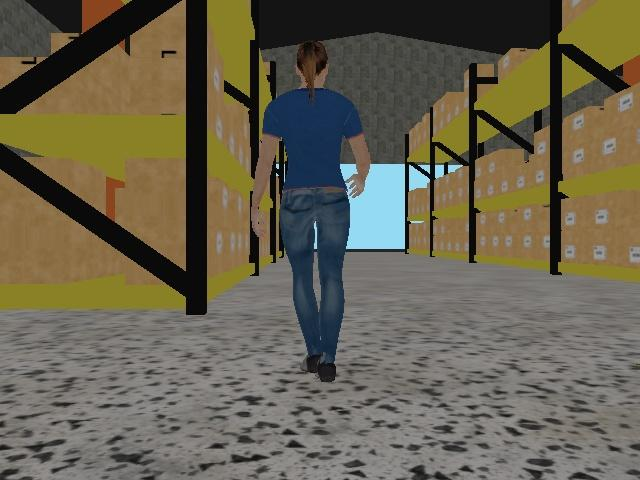person: (247, 39, 372, 383)
